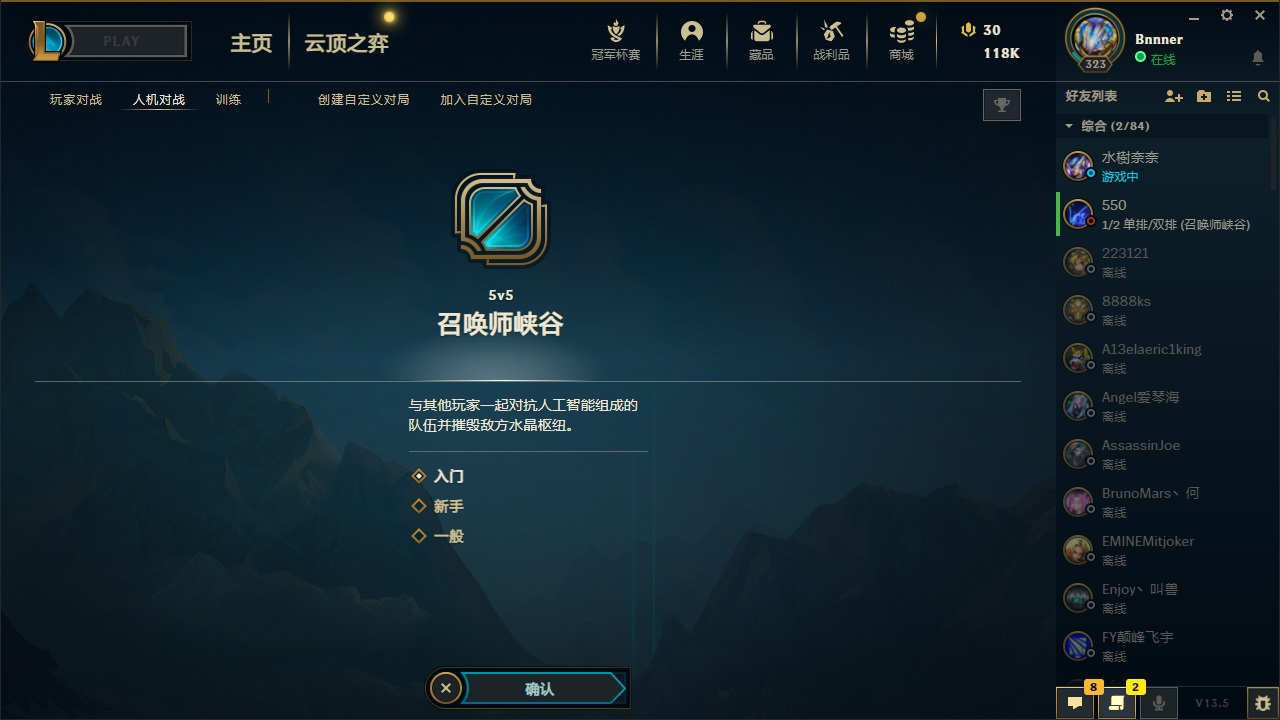HSPLAY: (54, 14, 200, 65)
QR: (465, 671, 609, 706)
RMRJ: (400, 457, 478, 491)
